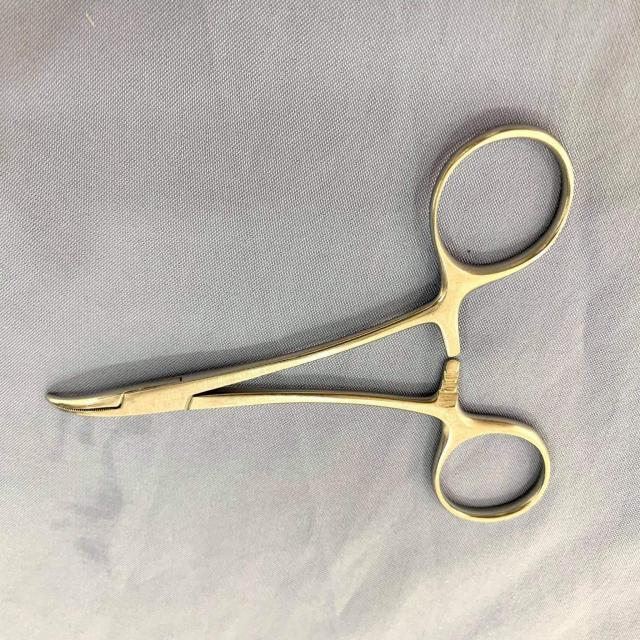Hemostat: (39, 113, 580, 532)
